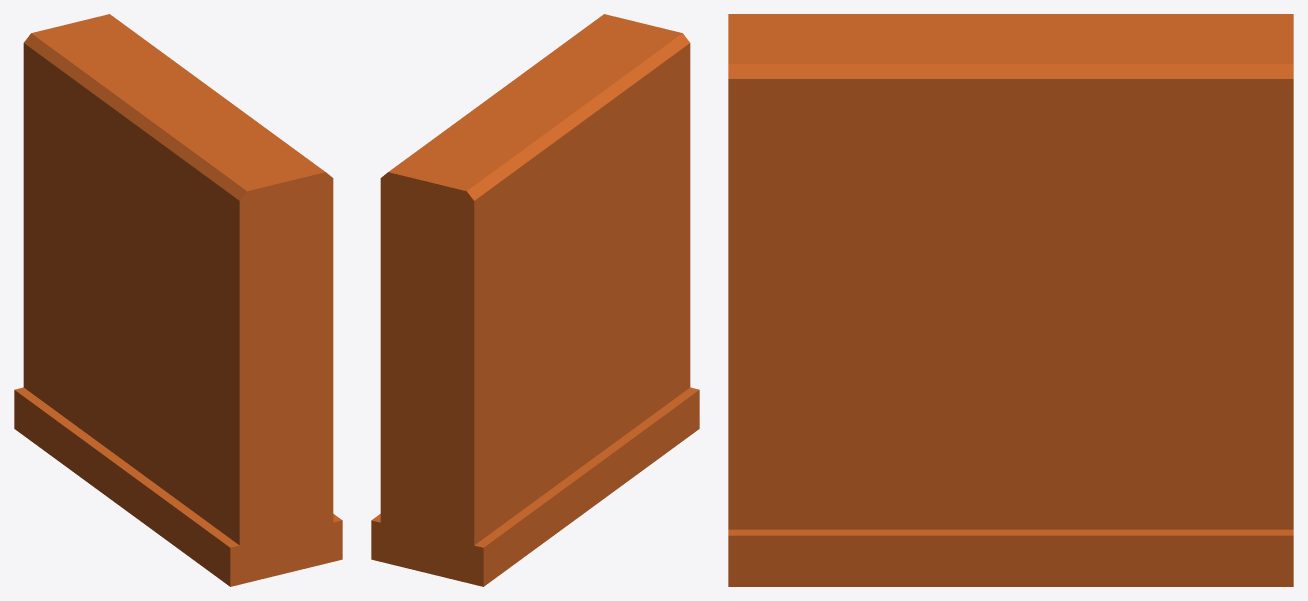
The model's file is Wall Normal.fbx.
3 views of the same model, side by side, from view 1: azimuth 30°, elevation 25°; view 2: azimuth 150°, elevation 25°; view 3: azimuth 270°, elevation 25° (orthographic). The views are drawn at different scales.
Parts seen in each view (by area): view 1: Wall normal; view 2: Wall normal; view 3: Wall normal.
Part boxes in pixels (<box>): Wall normal: <box>14,14,342,586</box>; Wall normal: <box>371,14,699,586</box>; Wall normal: <box>728,14,1293,586</box>.
Size of the model in its own units: 60 by 200 by 200.
